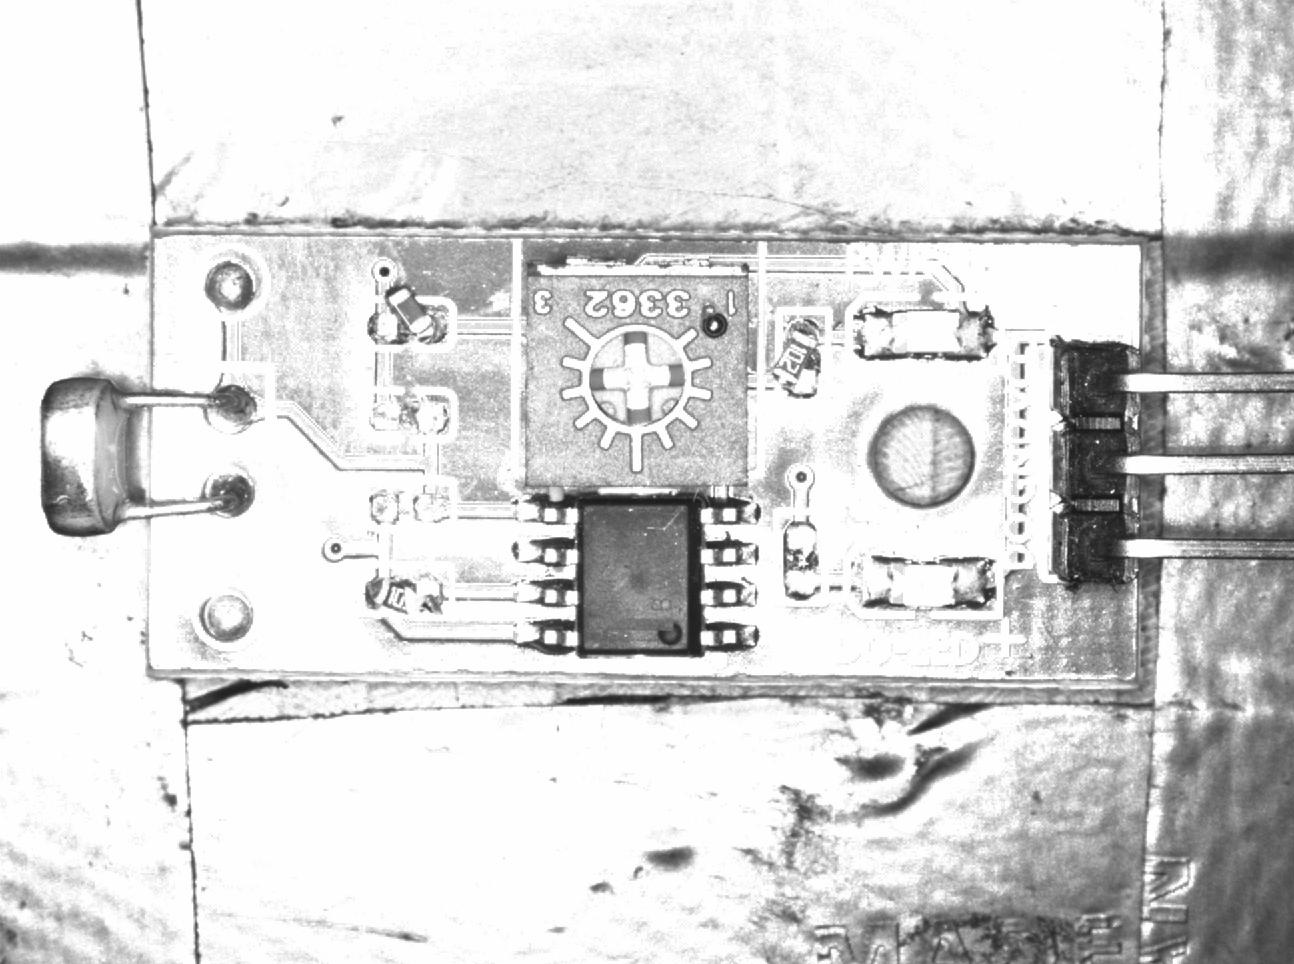bridge: (363, 389, 460, 443), (777, 509, 825, 610), (357, 480, 455, 527)
lifted: (363, 288, 457, 356), (774, 311, 832, 400), (359, 562, 454, 616)
